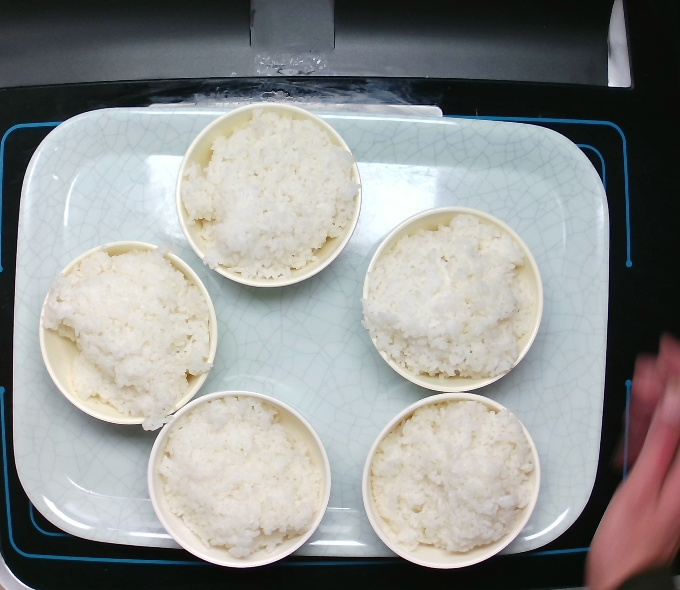wcq-MiFan: (33, 253, 220, 428), (169, 111, 356, 286), (360, 209, 547, 384), (150, 394, 333, 562), (361, 396, 547, 558)
